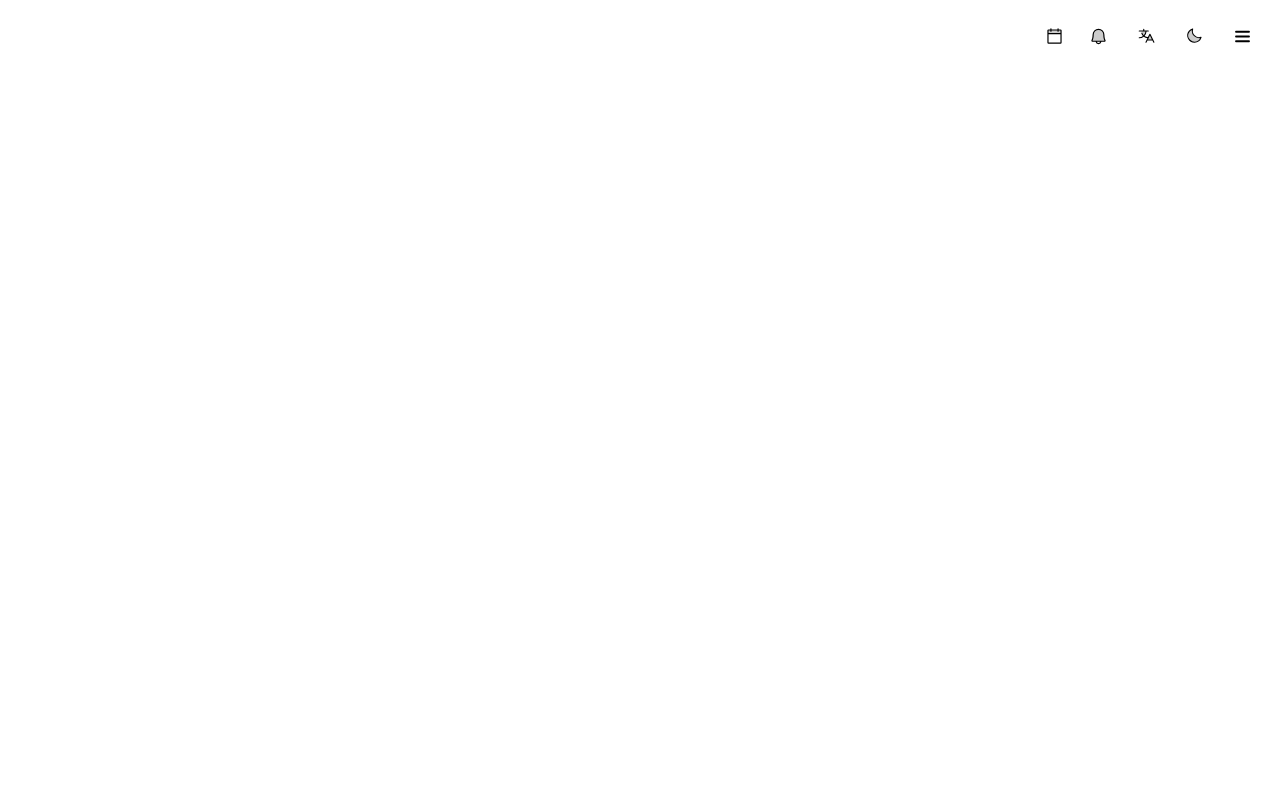
Header › opens course data panels for calendar and notifications
Click the button named "日历".
click(1054, 36)  # box [1032,14,1076,58]
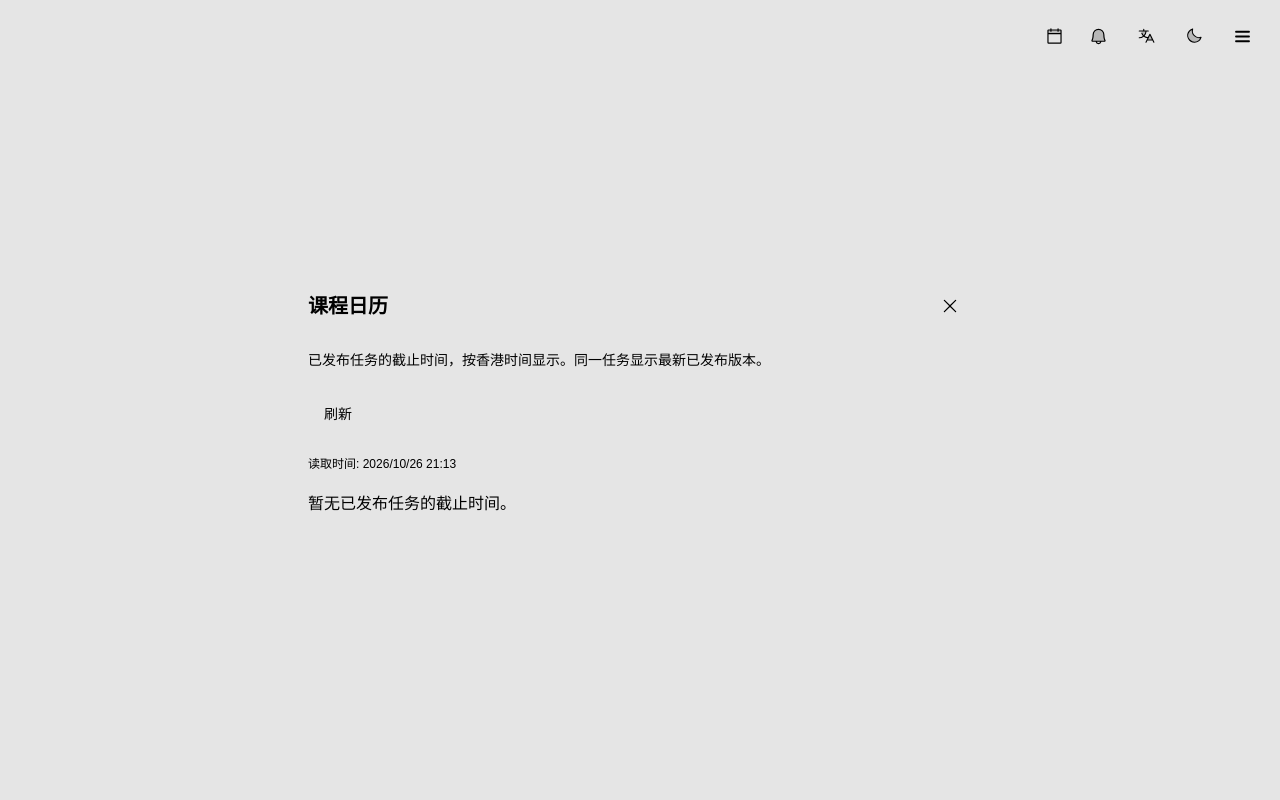
Now the text "暂无已发布任务的截止时间。" is shown, box [308,495,516,512]
Click the button named "关闭".
click(950, 306)  # box [928,284,972,328]
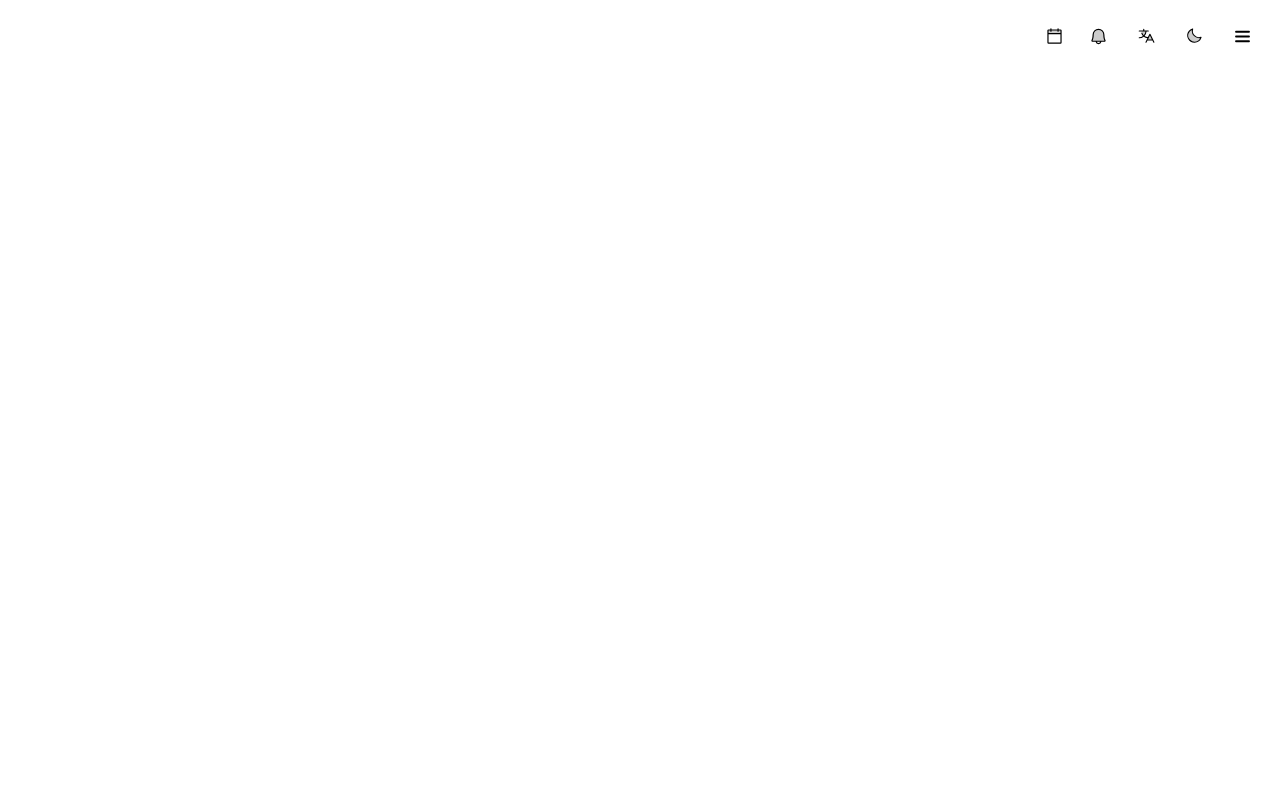
Now the dialog is gone
Click the button named "通知".
click(1098, 36)  # box [1076,14,1120,58]
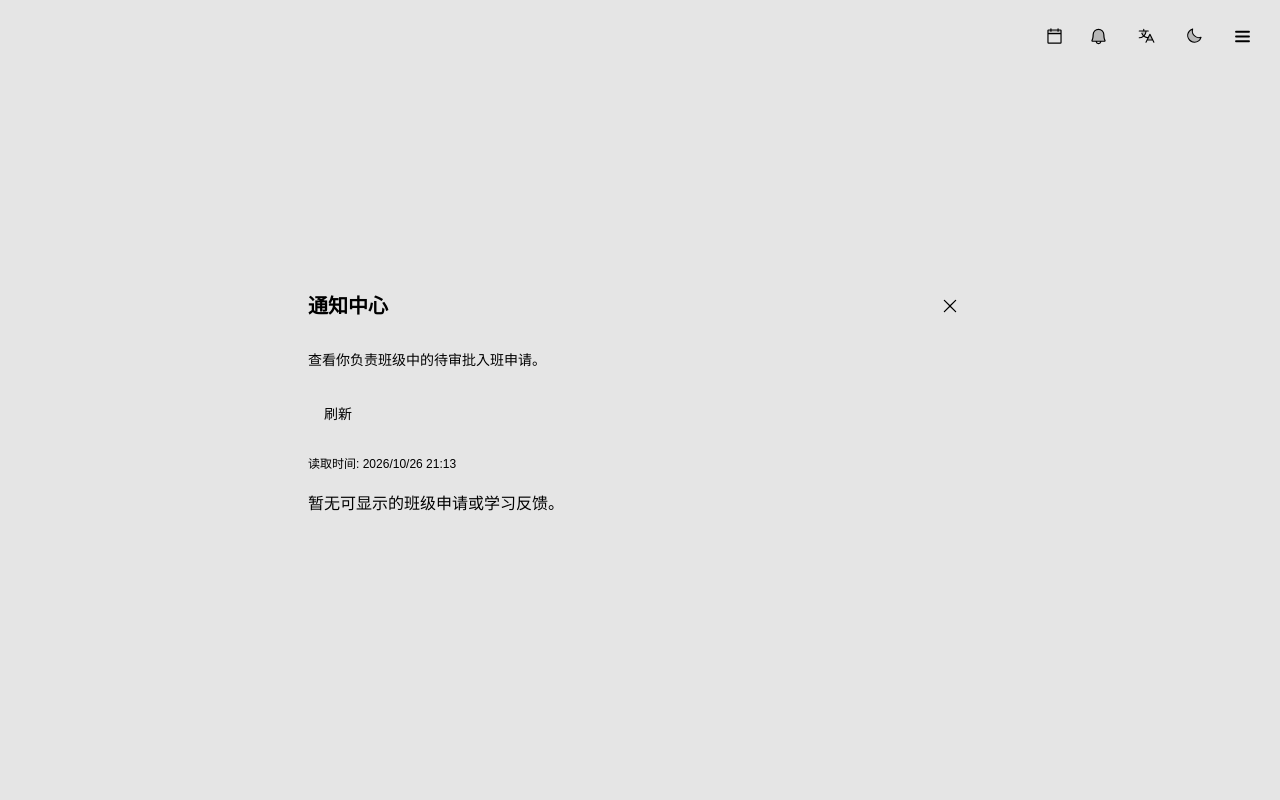
Now the text "暂无可显示的班级申请或学习反馈。" is shown, box [308,495,564,512]
Click the button named "关闭".
click(950, 306)  # box [928,284,972,328]
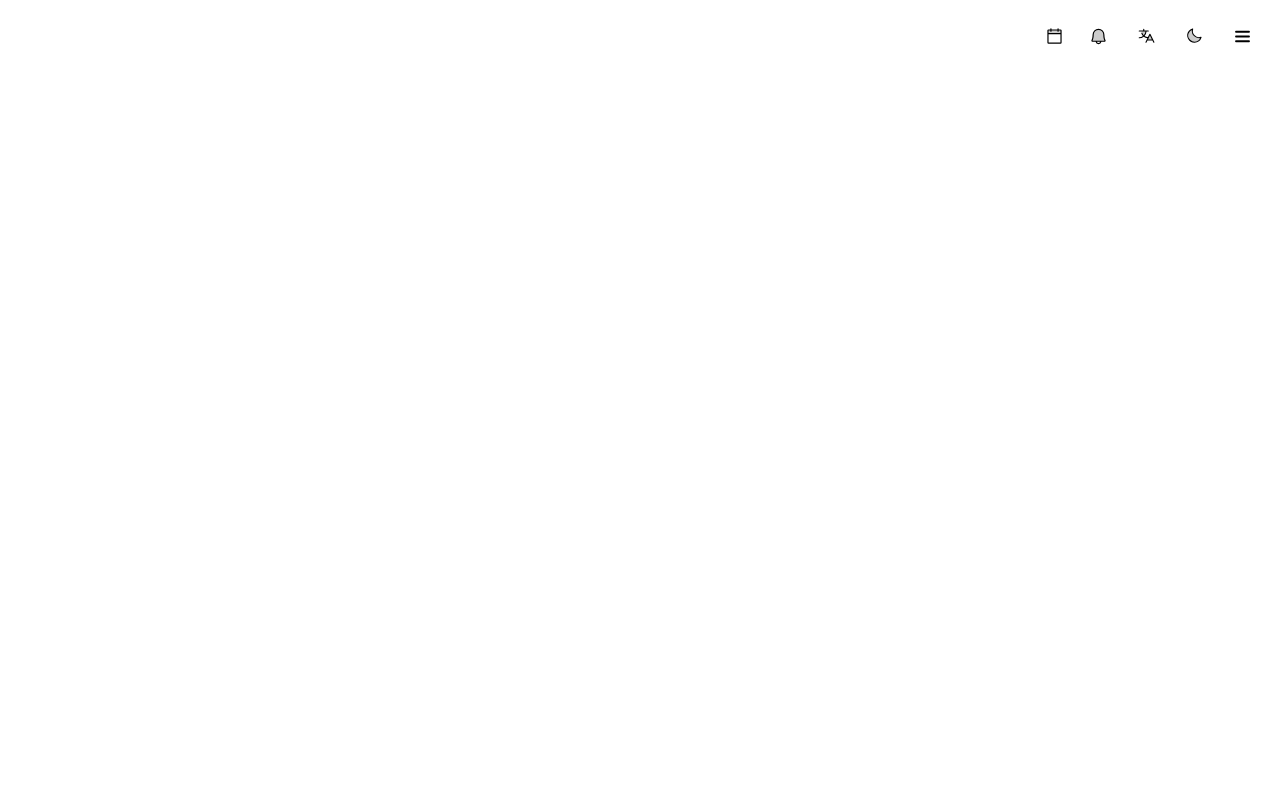
Now the dialog is gone
